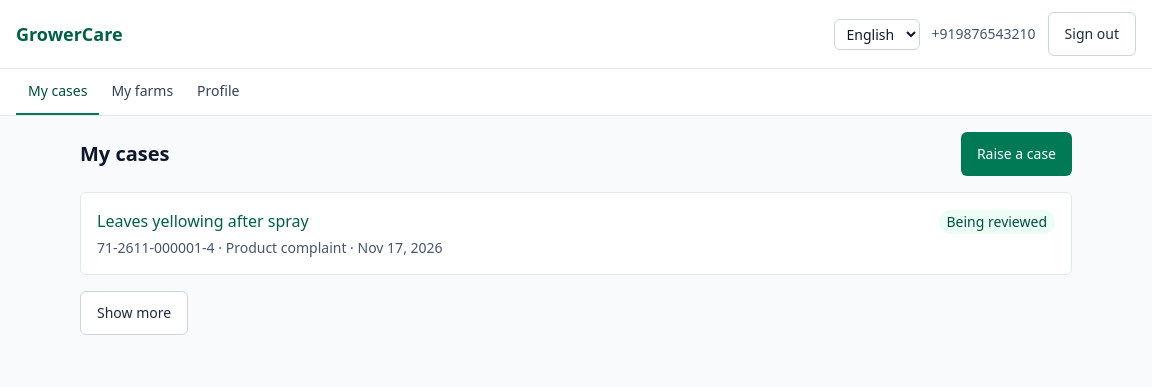
it: SPEC-FE-02 R104 My cases › FE-E104 more cases follow the cursor
This screenshot has width=1152, height=387.
Click the button "Show more" at (134, 313), box [80, 291, 188, 335]
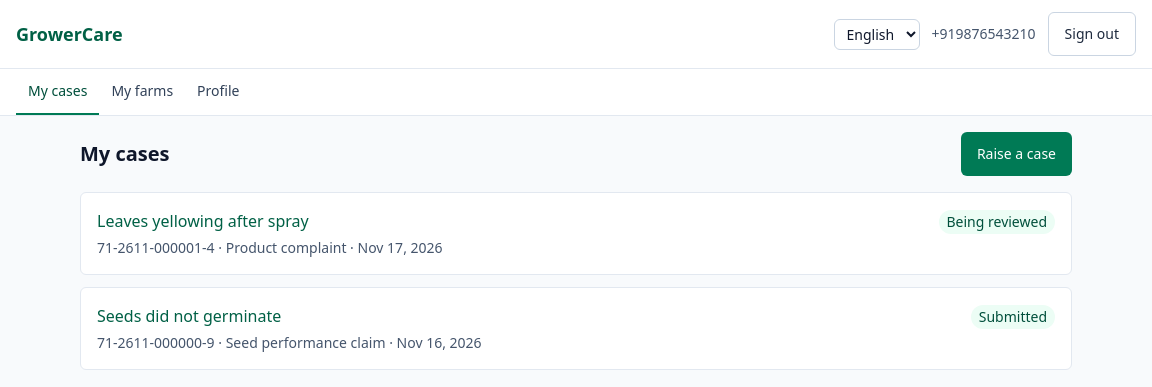
Result: the link "Seeds did not germinate" is shown at [97, 304, 281, 328]
Result: the button "Show more" is gone
